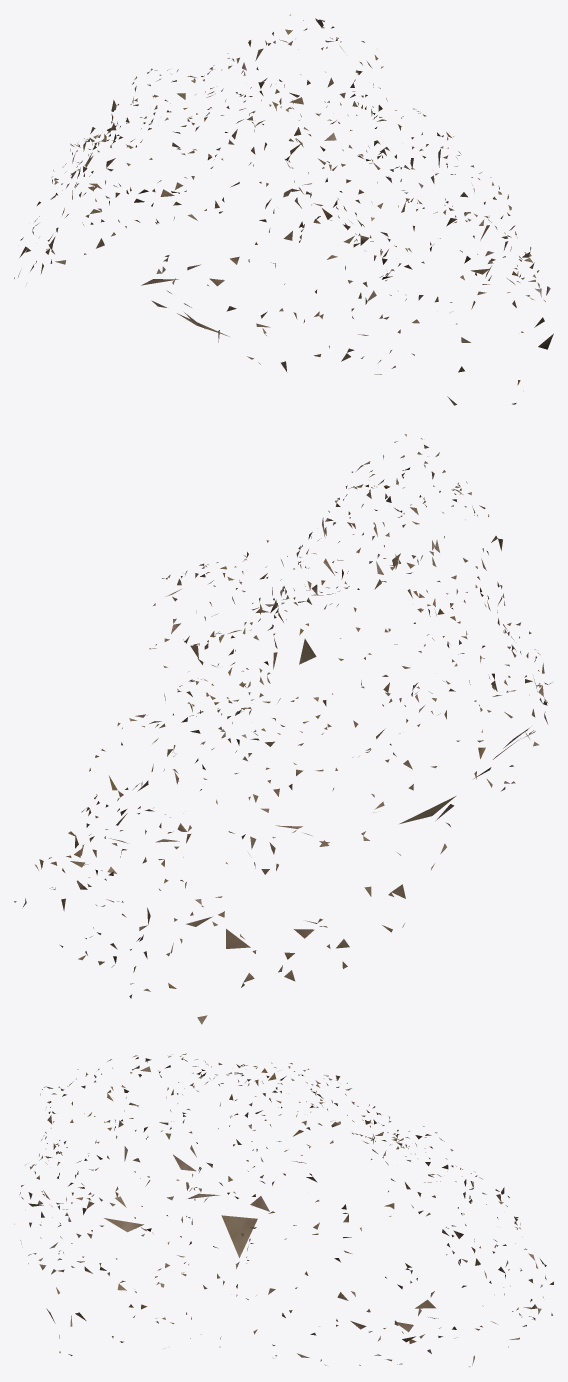
File: boulder.glb
The picture shows the model from 3 angles, top to bottom: view 1: azimuth 30°, elevation 25°; view 2: azimuth 150°, elevation 25°; view 3: azimuth 270°, elevation 25°; orthographic projection. The views are drawn at different scales.
Visible parts, largest first — view 1: boulder_01; view 2: boulder_01; view 3: boulder_01.
Boxes of the visible parts, <box> form: boulder_01: <box>14,14,553,405</box>; boulder_01: <box>14,434,552,1024</box>; boulder_01: <box>14,1053,553,1366</box>.
Bounding box in the file's own units: 1.26 × 0.9983 × 1.79.
Materials: 1 (1 with a texture image).
